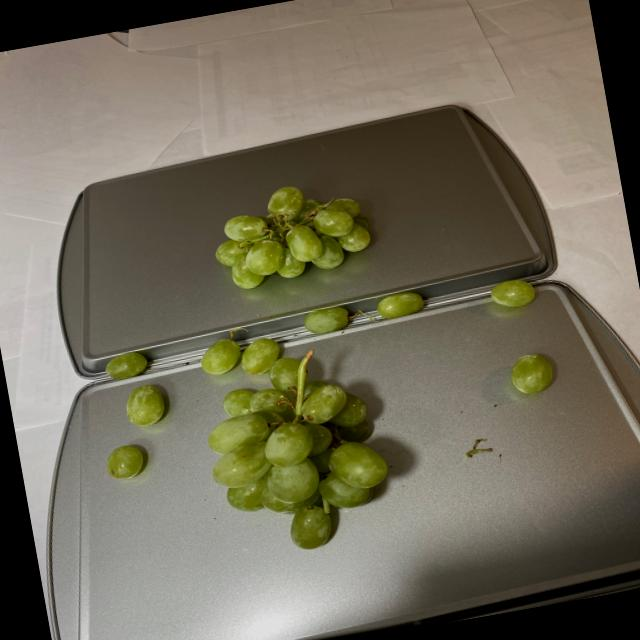grapes: (88, 267, 580, 574), (212, 172, 384, 294)
